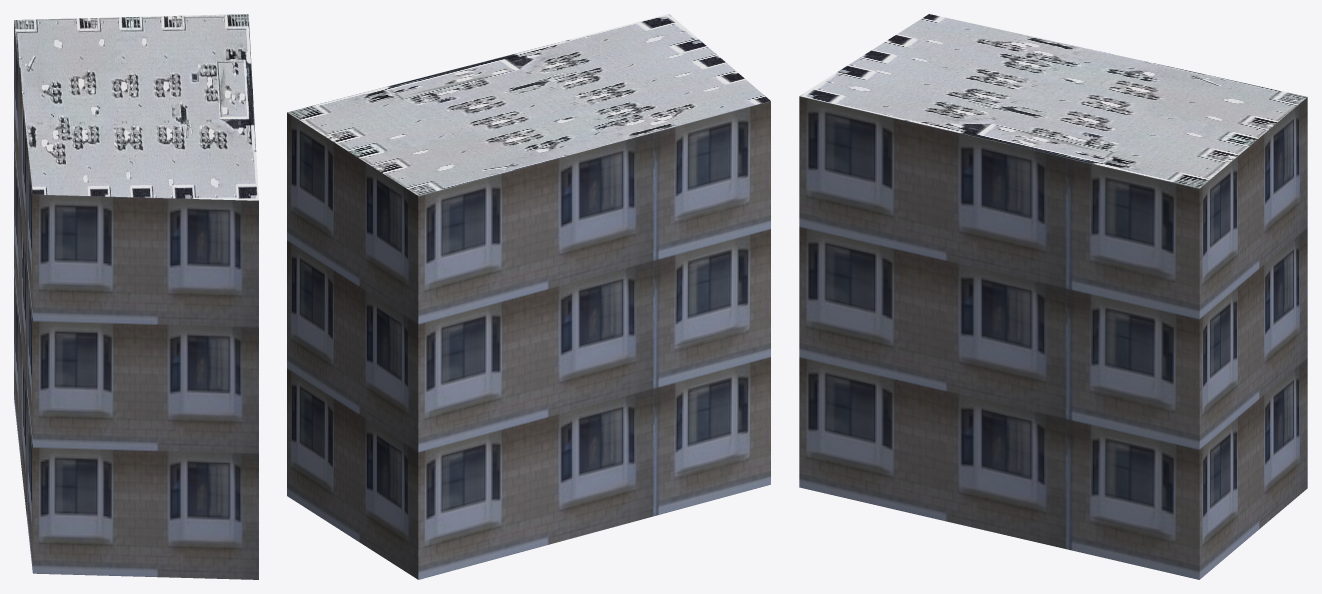
Rendered from ResTex__4198.fbx.
3 renders of one model, left to right at view 1: azimuth 30°, elevation 25°; view 2: azimuth 150°, elevation 25°; view 3: azimuth 270°, elevation 25°, orthographic. The views are drawn at different scales.
Parts seen in each view (by area): view 1: CityEngineMaterial_3_m, CityEngineMaterial_8_m; view 2: CityEngineMaterial_3_m, CityEngineMaterial_8_m; view 3: CityEngineMaterial_3_m, CityEngineMaterial_8_m.
Boxes of the visible parts, box(x1,y1,x2,y2) form: CityEngineMaterial_3_m: box(14, 21, 258, 579); CityEngineMaterial_8_m: box(14, 14, 258, 200); CityEngineMaterial_3_m: box(287, 101, 770, 579); CityEngineMaterial_8_m: box(287, 14, 770, 195); CityEngineMaterial_3_m: box(799, 96, 1307, 579); CityEngineMaterial_8_m: box(799, 14, 1307, 188).
Bounding box in the file's own units: 8.62 × 9 × 10.6.
2 materials, 2 textured.
